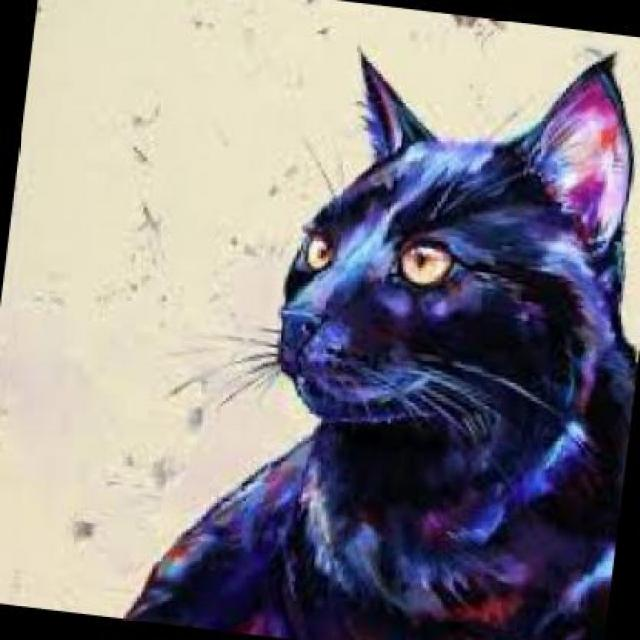animals: (124, 0, 638, 638)
